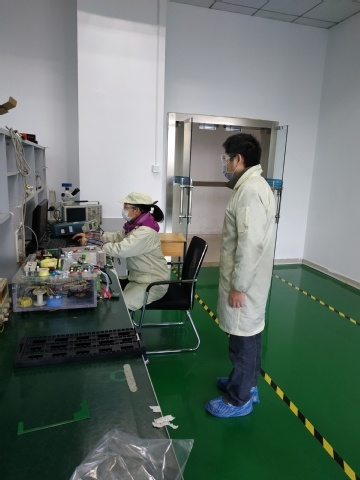correctlyWear: (221, 143, 242, 181), (119, 199, 140, 221)
